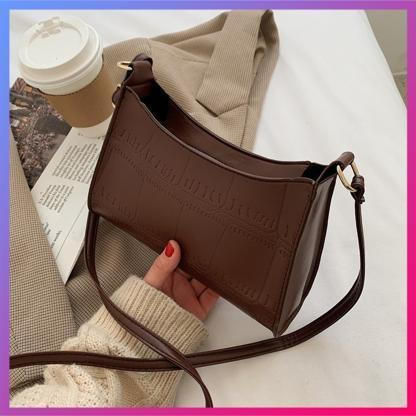not trash: (80, 54, 366, 376)
trash: (14, 12, 120, 141)
